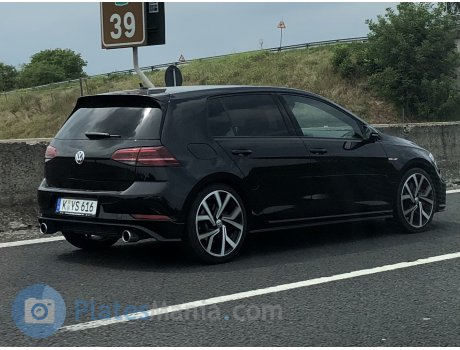License Plates: (60, 196, 98, 211)
